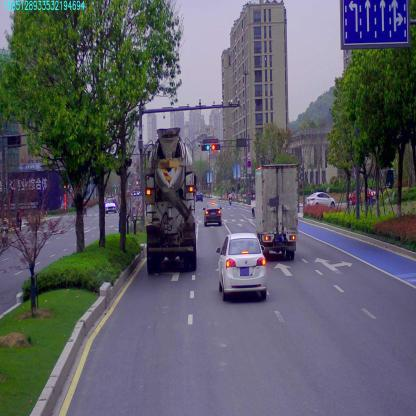traffic-light: (199, 143, 209, 152), (211, 143, 220, 150)
